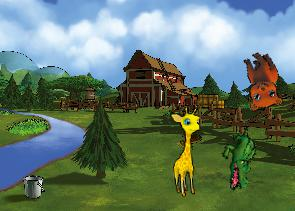bear: (229, 47, 290, 116)
crocodile: (215, 125, 265, 192)
giraffe: (169, 106, 206, 197)
